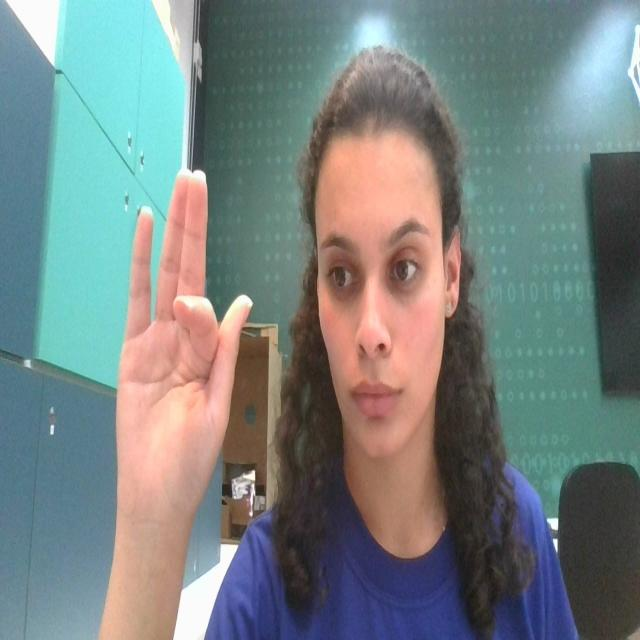F: (108, 151, 256, 536)
